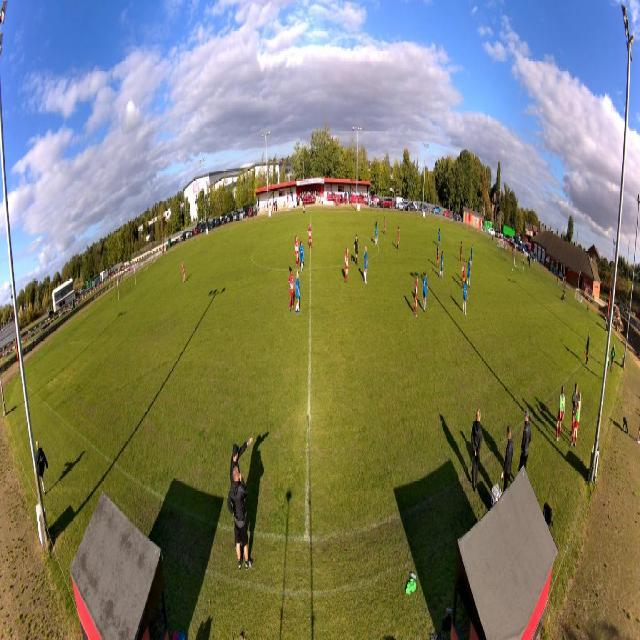ball: (512, 268, 513, 272)
player: (289, 265, 297, 313), (422, 269, 429, 314), (295, 269, 301, 317), (413, 273, 419, 319), (462, 278, 468, 316), (299, 240, 305, 274), (294, 234, 300, 268), (353, 233, 359, 267), (363, 245, 368, 285), (344, 247, 349, 285), (307, 223, 313, 250), (439, 250, 444, 280), (467, 258, 472, 288), (462, 260, 466, 291), (181, 260, 186, 284), (436, 243, 440, 269), (374, 221, 378, 246), (470, 244, 474, 268), (459, 241, 463, 262), (437, 228, 441, 248), (397, 227, 400, 251), (383, 216, 386, 235), (522, 257, 525, 276)
